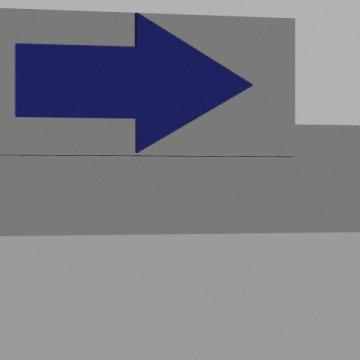blue_right: (15, 14, 251, 152)
